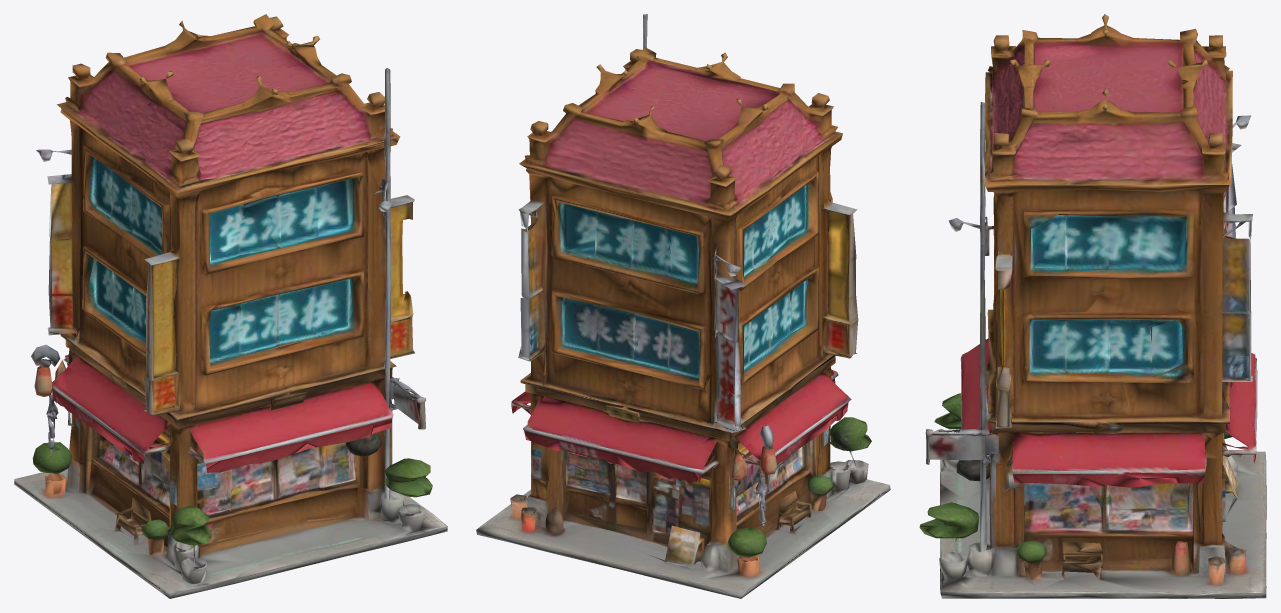
File: au_bld_mangaverse.glb
3 renders of one model, left to right at view 1: azimuth 30°, elevation 25°; view 2: azimuth 150°, elevation 25°; view 3: azimuth 270°, elevation 25°, orthographic. The views are drawn at different scales.
Visible parts, largest first — view 1: tripo_node_055125d0-37e5-46e8-8db8-433214ae87e5; view 2: tripo_node_055125d0-37e5-46e8-8db8-433214ae87e5; view 3: tripo_node_055125d0-37e5-46e8-8db8-433214ae87e5.
Part boxes in pixels (<box>): tripo_node_055125d0-37e5-46e8-8db8-433214ae87e5: <box>14,14,447,598</box>; tripo_node_055125d0-37e5-46e8-8db8-433214ae87e5: <box>476,14,890,598</box>; tripo_node_055125d0-37e5-46e8-8db8-433214ae87e5: <box>919,14,1266,598</box>.
Bounding box in the file's own units: 0.6422 × 0.9801 × 0.6478.
1 material, 1 textured.
